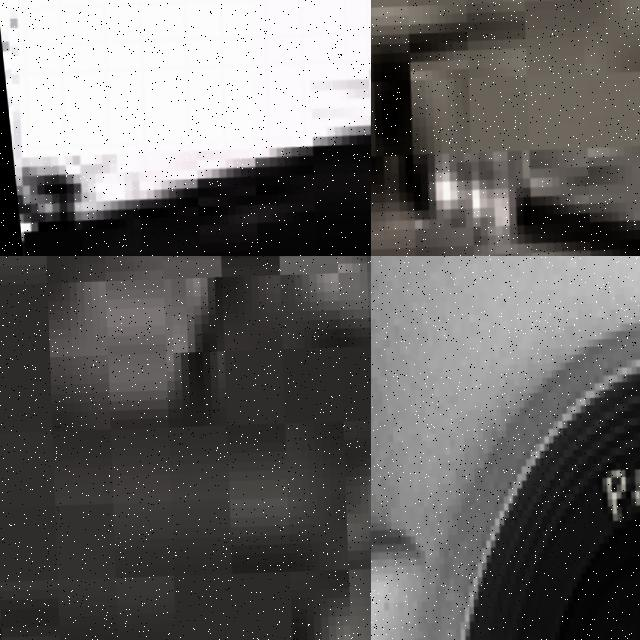0: (0, 0, 371, 256), (371, 0, 640, 256)
drone: (371, 256, 640, 640)
